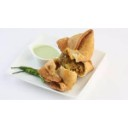samosa: (57, 30, 96, 59)
